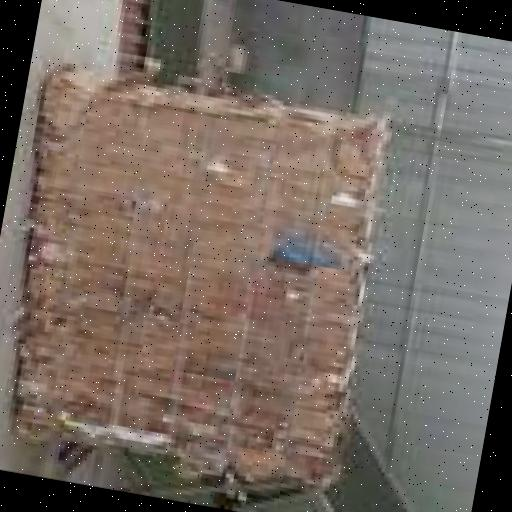cardboard: (0, 61, 401, 494)
